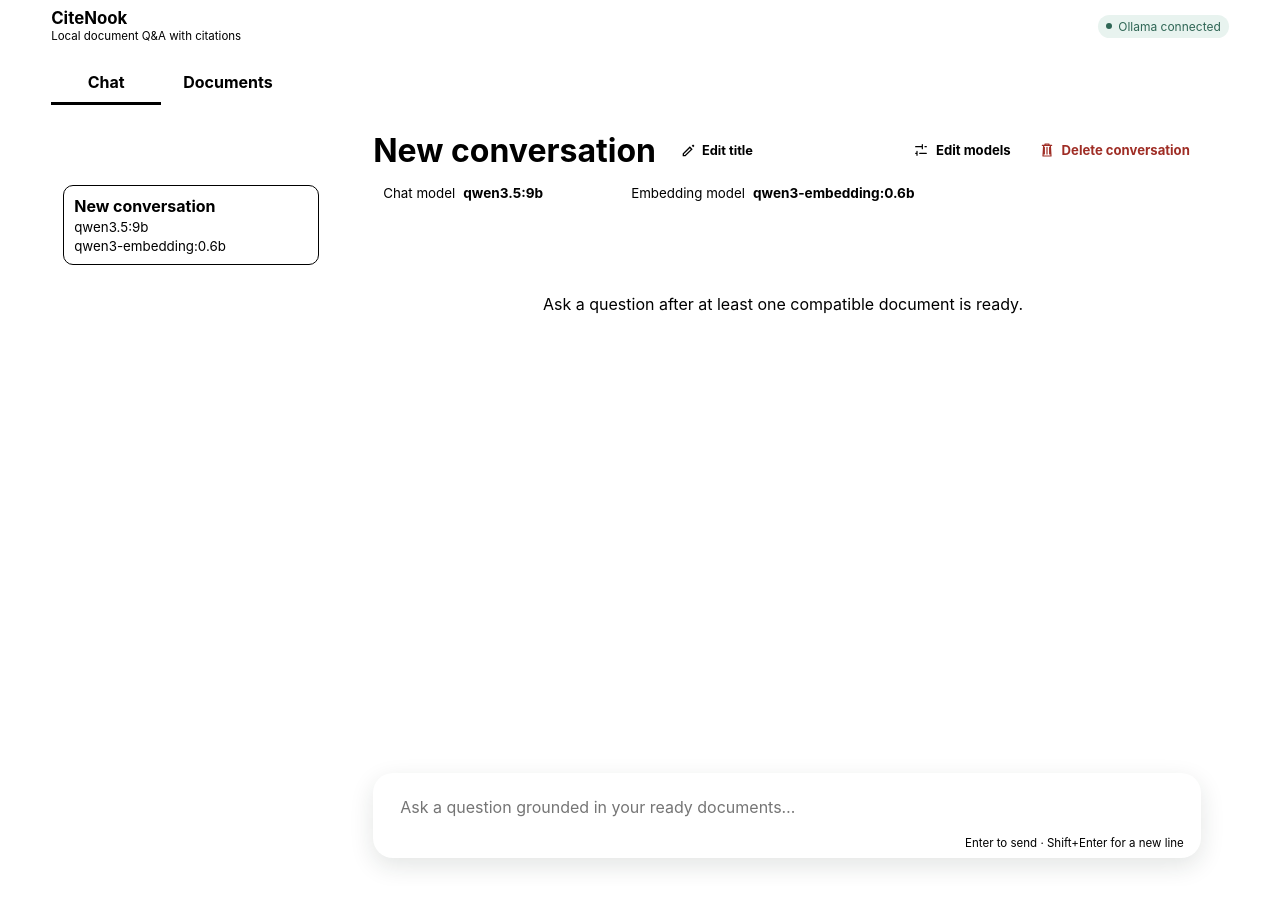
Test: conversation model selection › persists both edited models on the active conversation
Click the button "Edit models". click: (962, 150)
box: [902,133,1022,167]
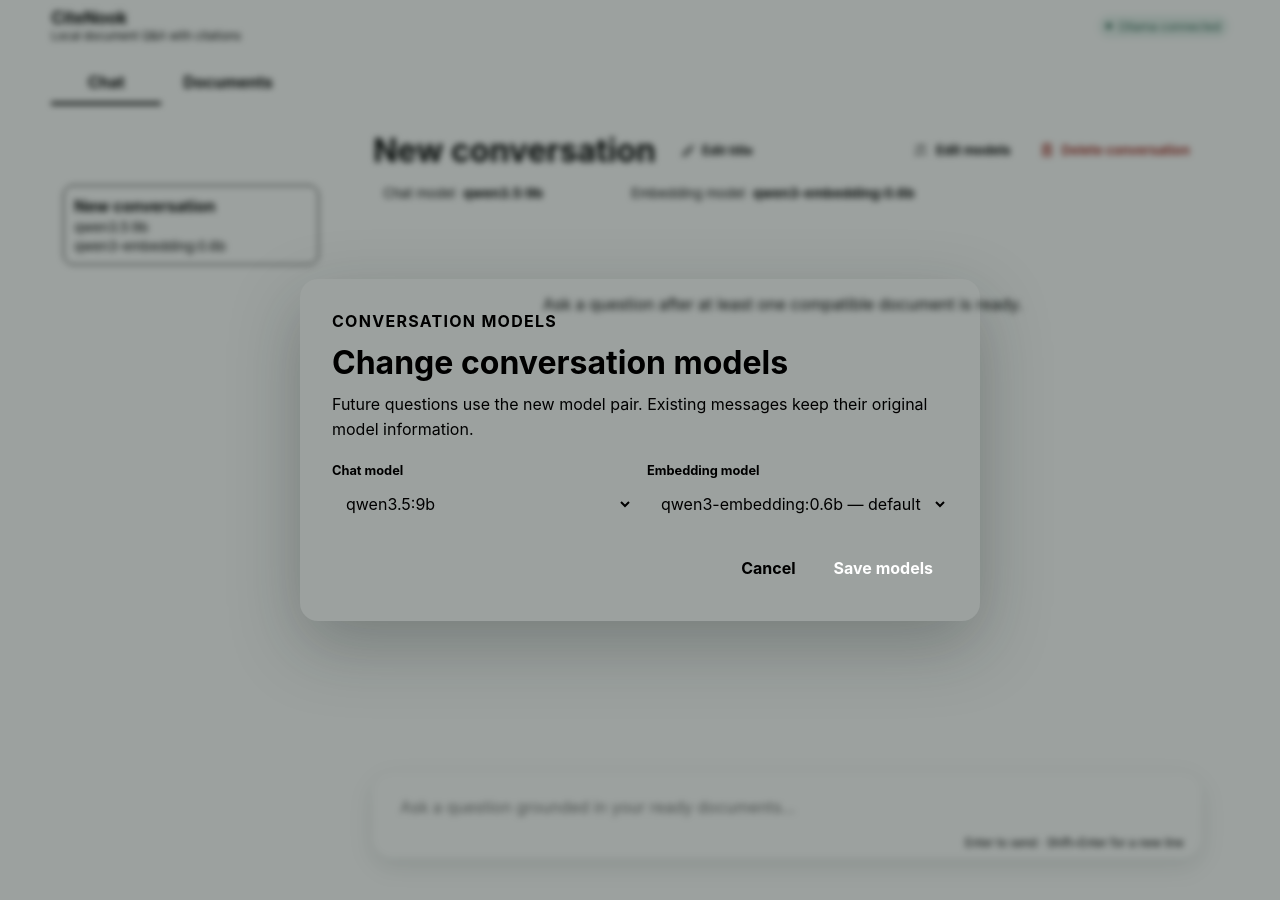
Select "llama3.1:8b — default" in the dropdown labelled "Chat model". click: (482, 504)
box: [332,485,633,523]
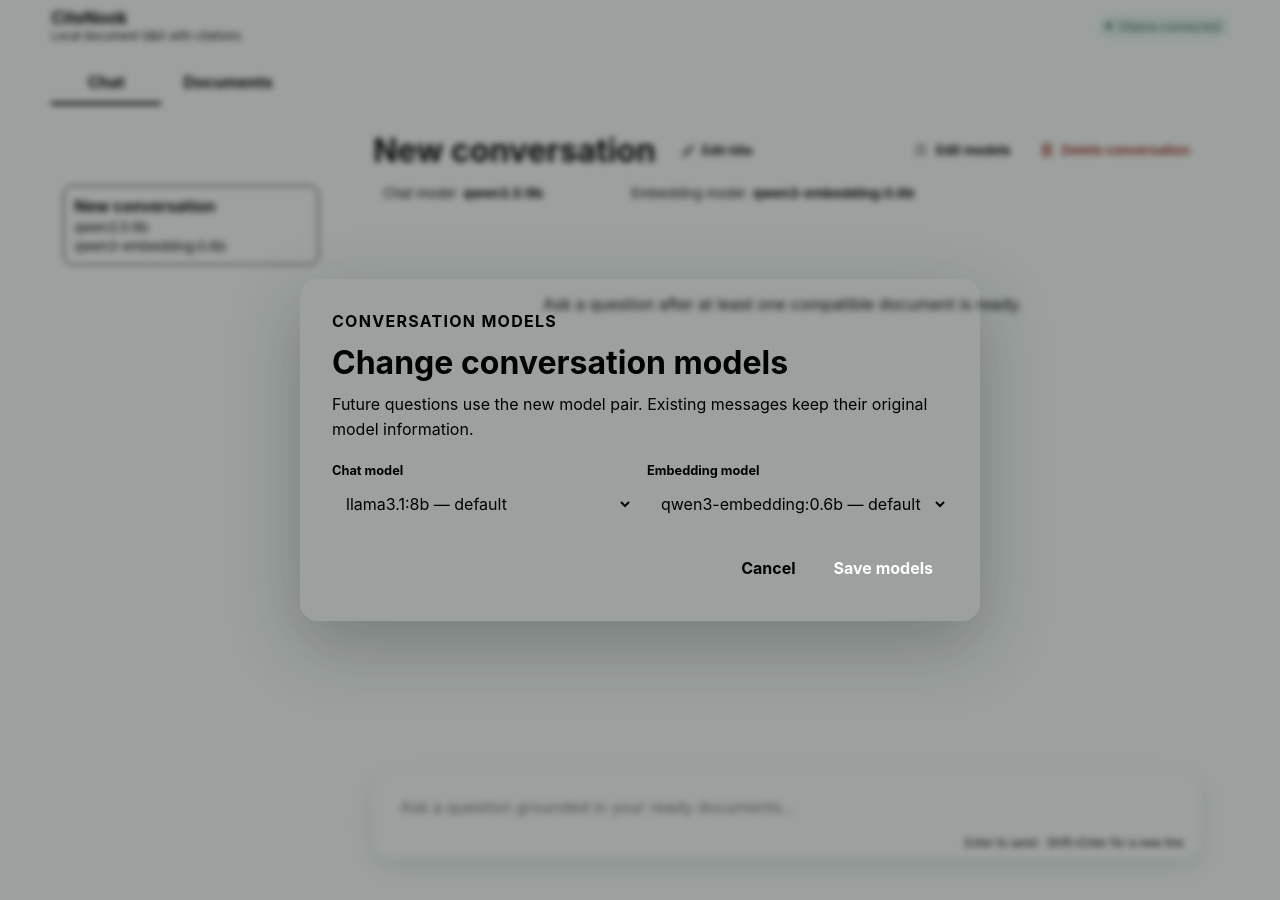
Click the button "Save models". click: (883, 568)
box: [818,547,948,589]
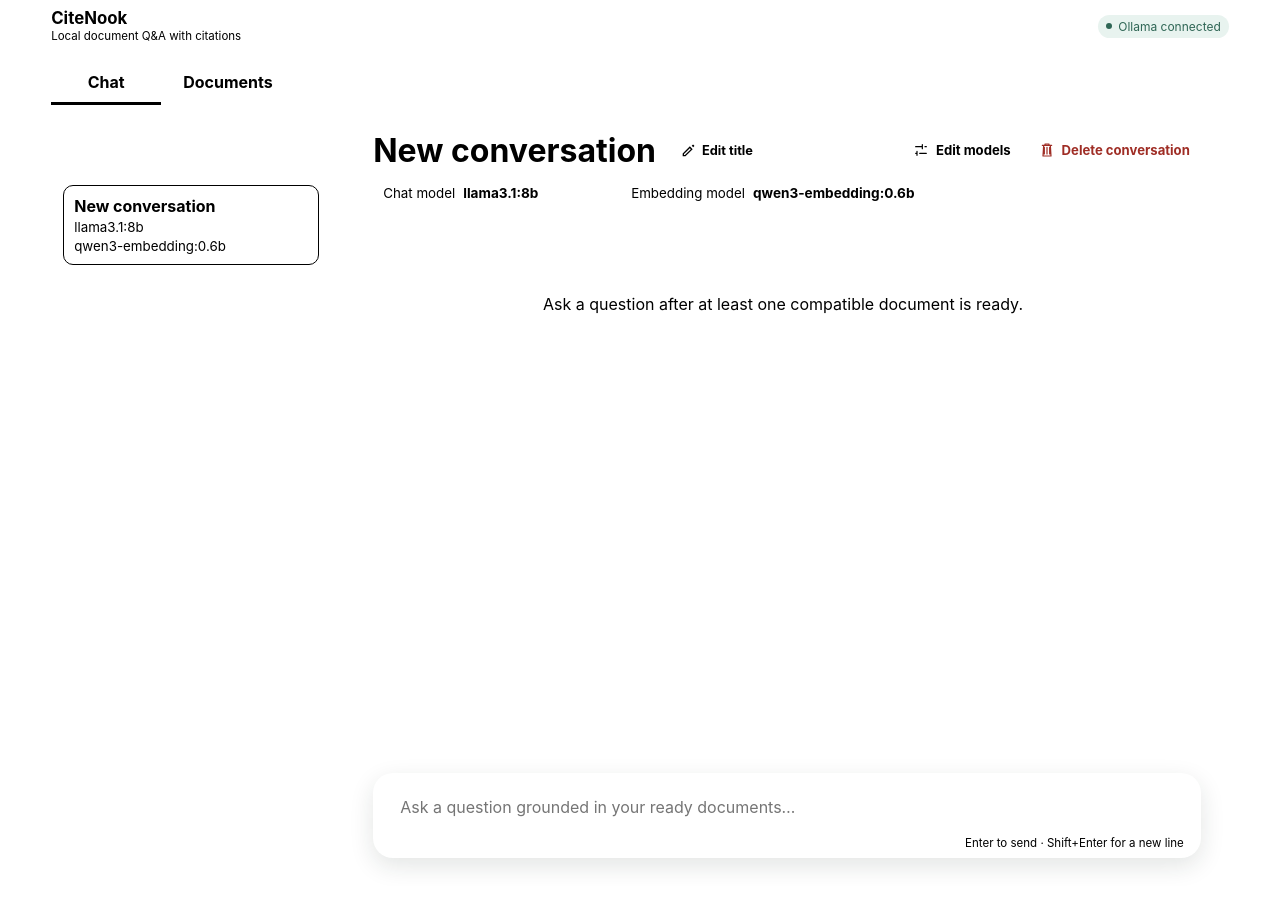
Now the heading "Change conversation models" is gone
Now the text "llama3.1:8b" next to "Chat model" is shown, box [463,185,538,201]
